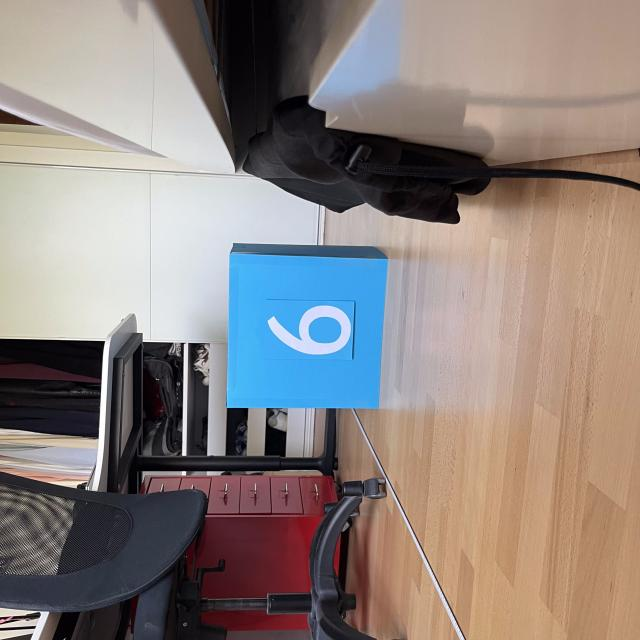box: (223, 238, 391, 412)
